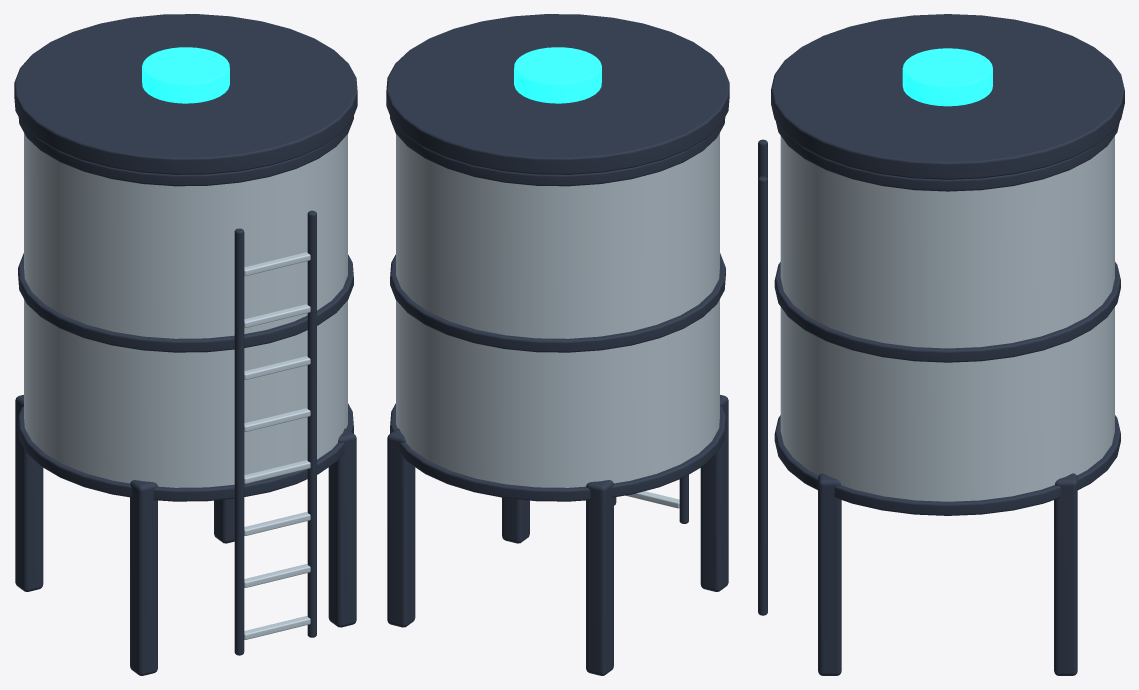
The model's file is free-roof-tank.glb.
3 renders of one model, left to right at view 1: azimuth 30°, elevation 25°; view 2: azimuth 150°, elevation 25°; view 3: azimuth 270°, elevation 25°, orthographic. The views are drawn at different scales.
Parts seen in each view (by area): view 1: roof-tank; view 2: roof-tank; view 3: roof-tank.
Part boxes in pixels (x1=…): roof-tank: x1=14, y1=14, x2=357, y2=675; roof-tank: x1=386, y1=14, x2=729, y2=675; roof-tank: x1=758, y1=14, x2=1124, y2=675.
Bounding box in the file's own units: 1.8 × 3.12 × 1.87.
